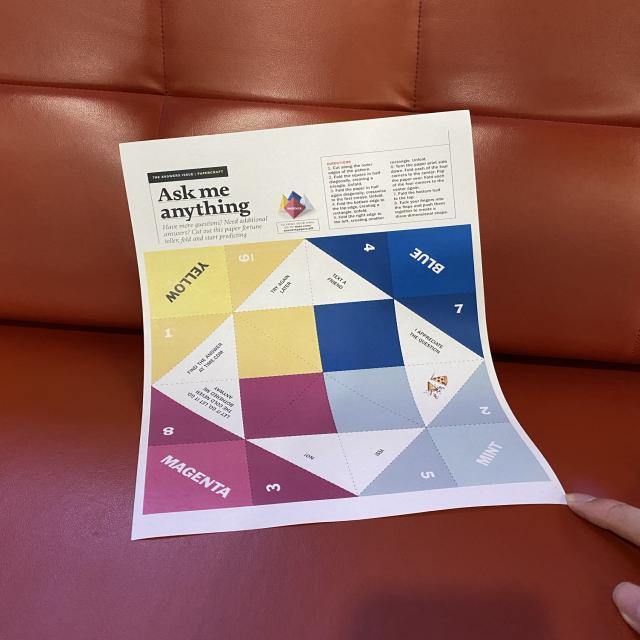document: (120, 111, 564, 539)
